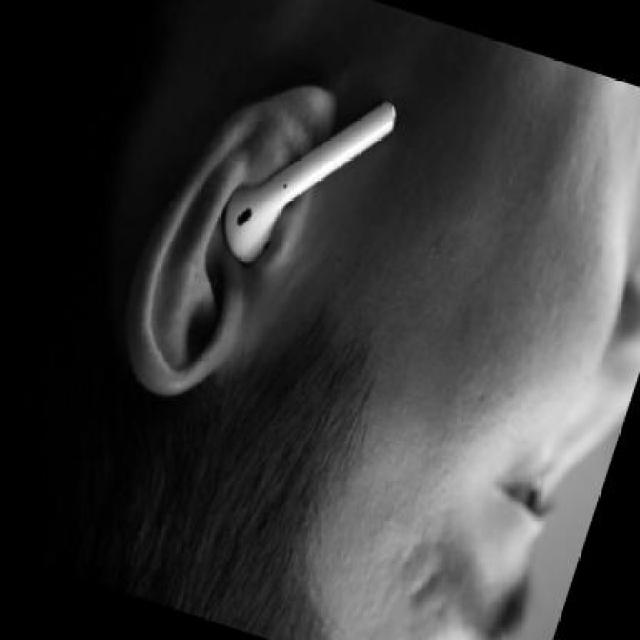earphone: (222, 86, 416, 273)
